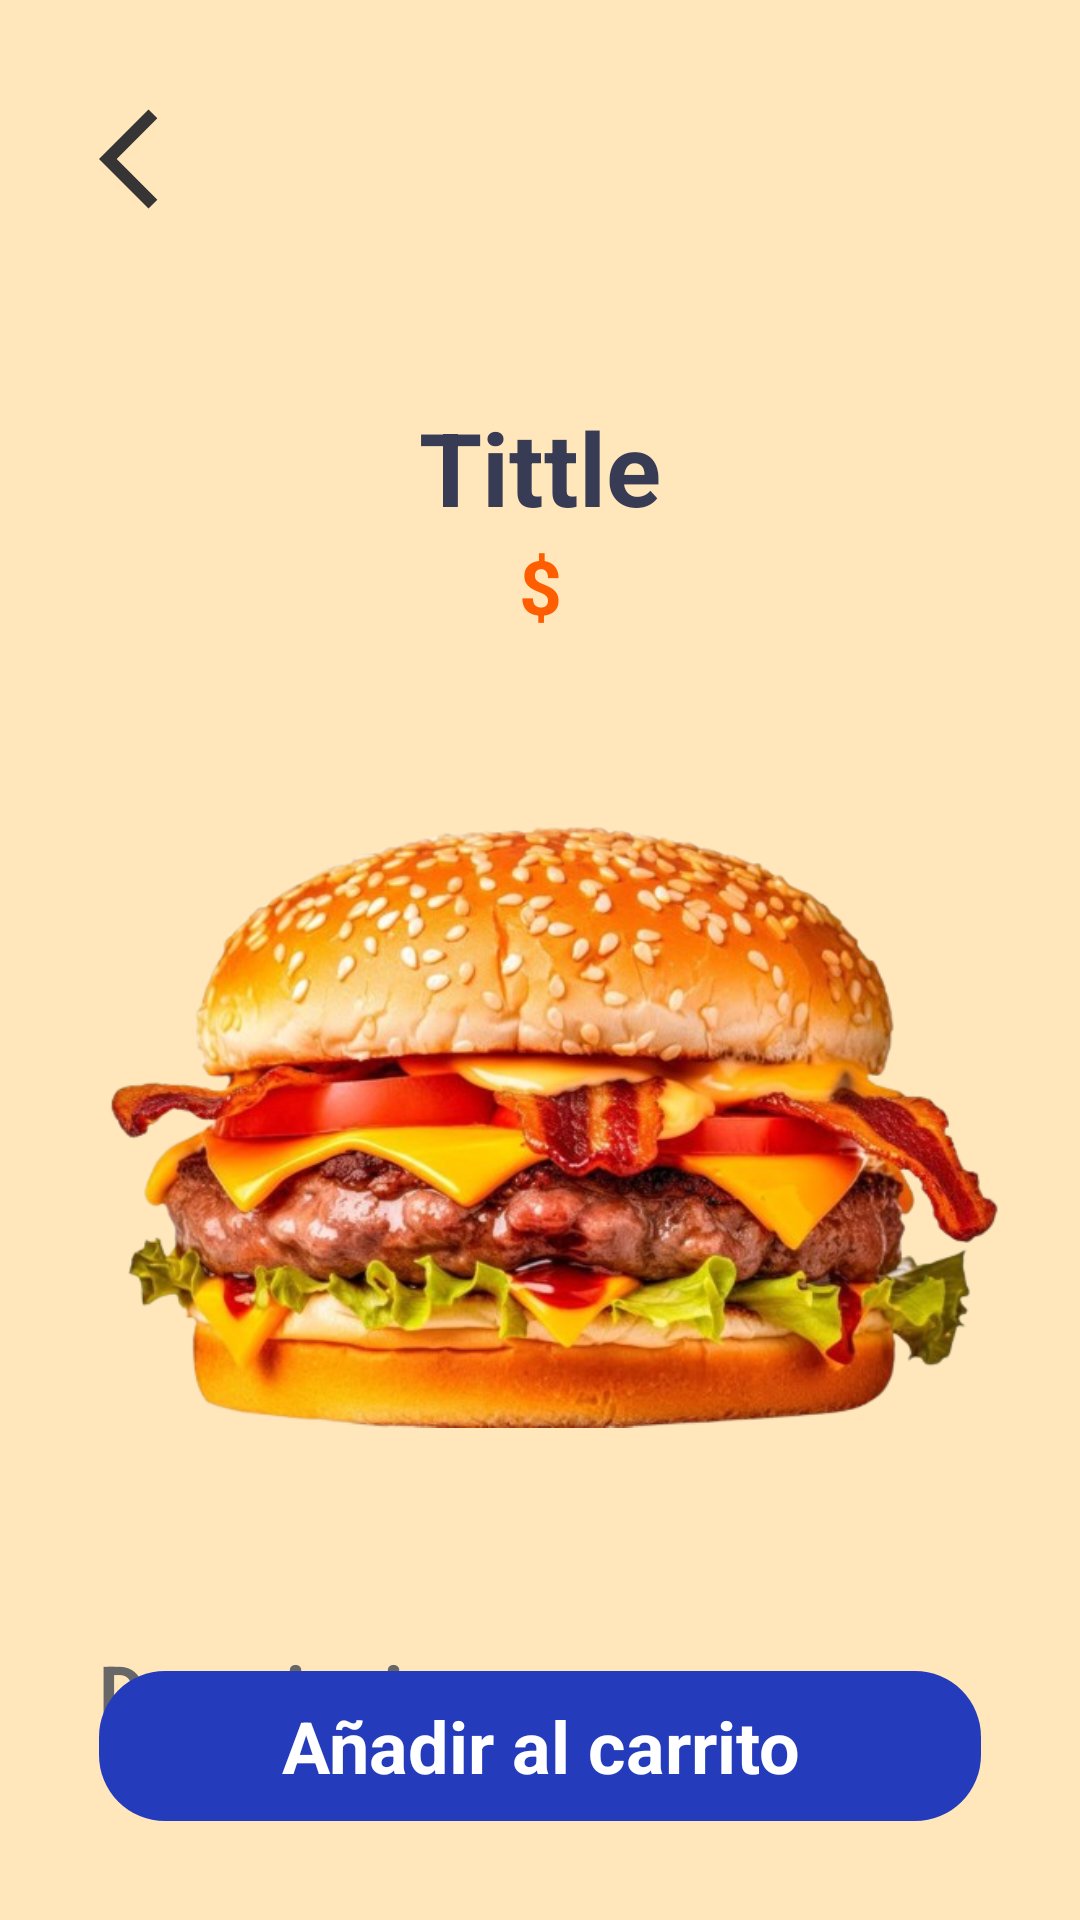

Named icons in this screenshot (1080 x 1920) and their centers, point (x, y):
arrow back: point (128, 159)
